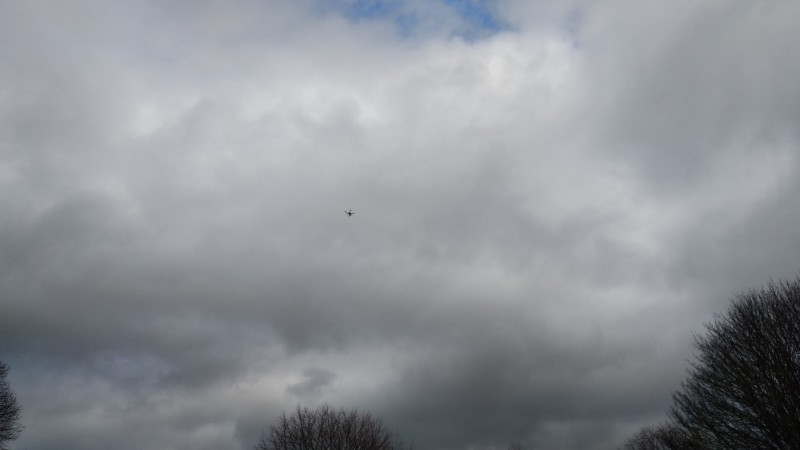drone: (344, 207, 354, 216)
